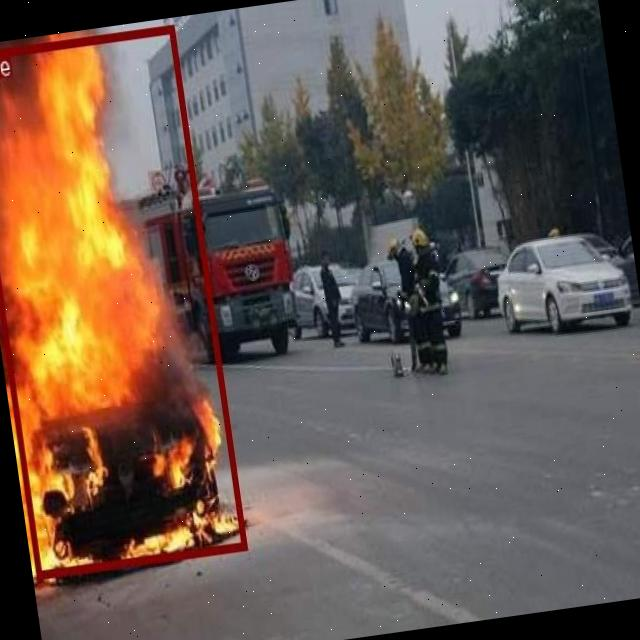fire: (0, 24, 246, 578)
